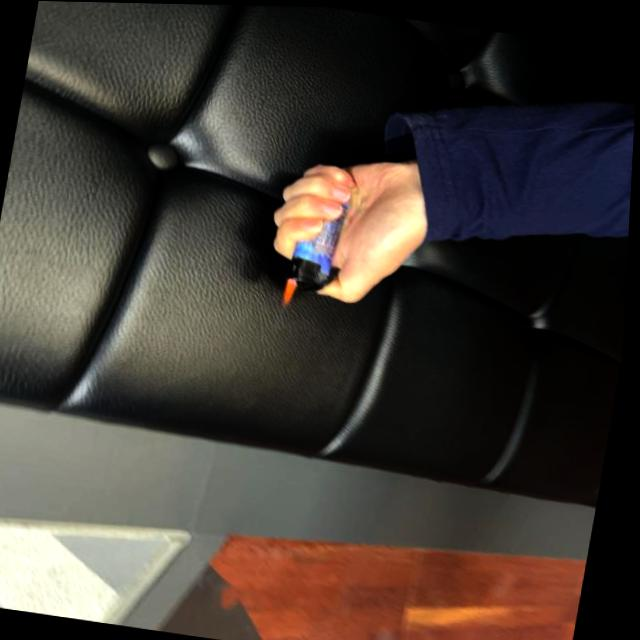helmet: (283, 278, 301, 305)
